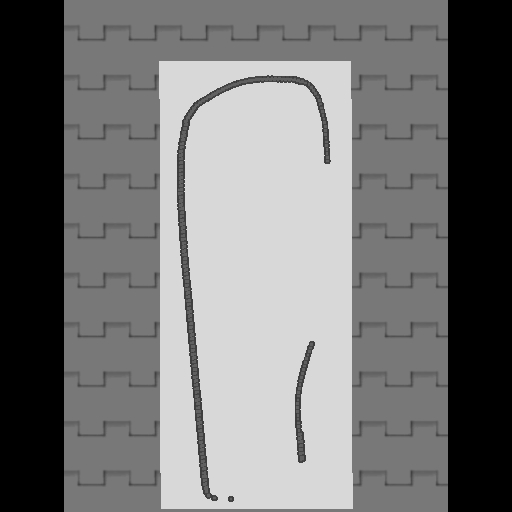Defect: (309, 159, 337, 340)
